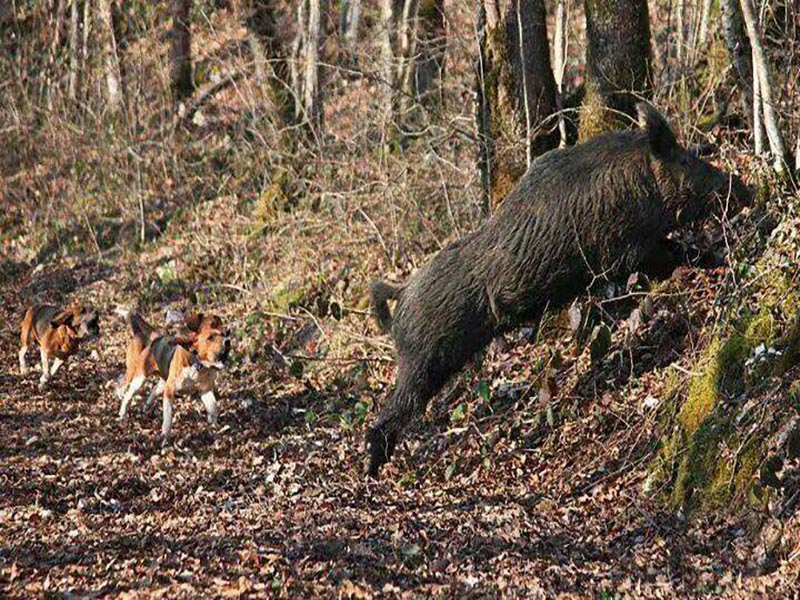cane da caccia: (107, 308, 240, 432), (11, 294, 103, 382)
cinghiale: (347, 100, 755, 477)
